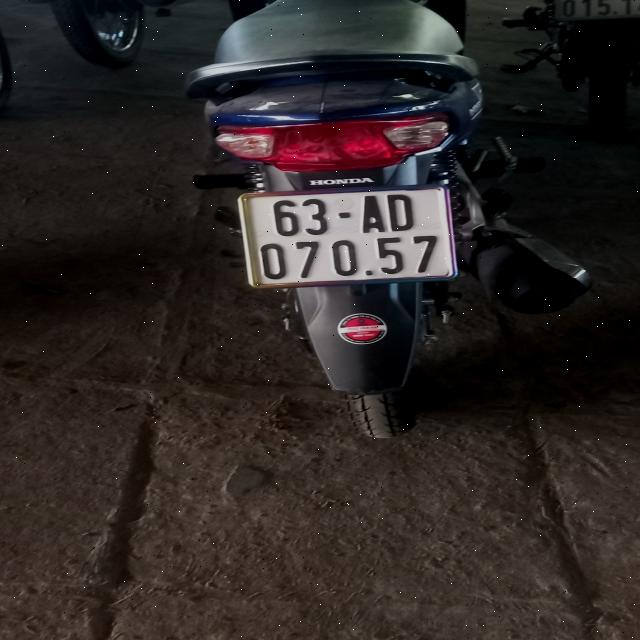0: (332, 239, 358, 276), (260, 244, 286, 280)
3: (301, 199, 329, 235)
5: (375, 237, 403, 273)
6: (272, 199, 298, 237)
7: (414, 235, 436, 272), (297, 242, 318, 278)
A: (360, 195, 384, 232)
D: (387, 195, 415, 231)
